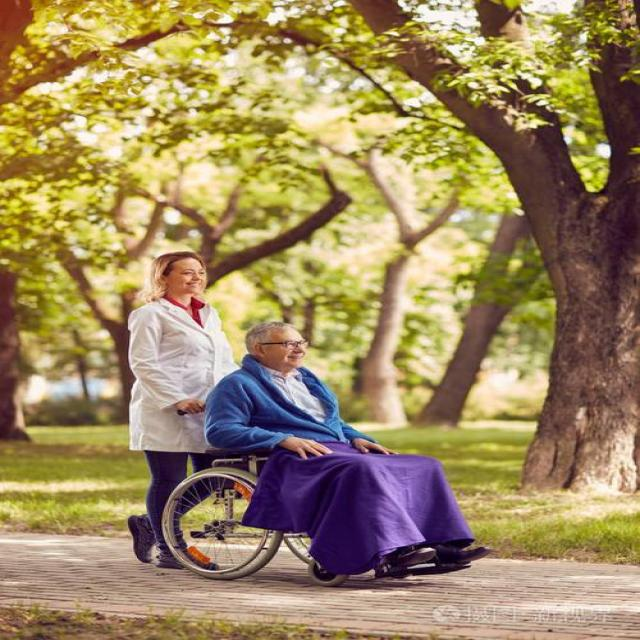wheelchairs: (149, 400, 495, 586)
